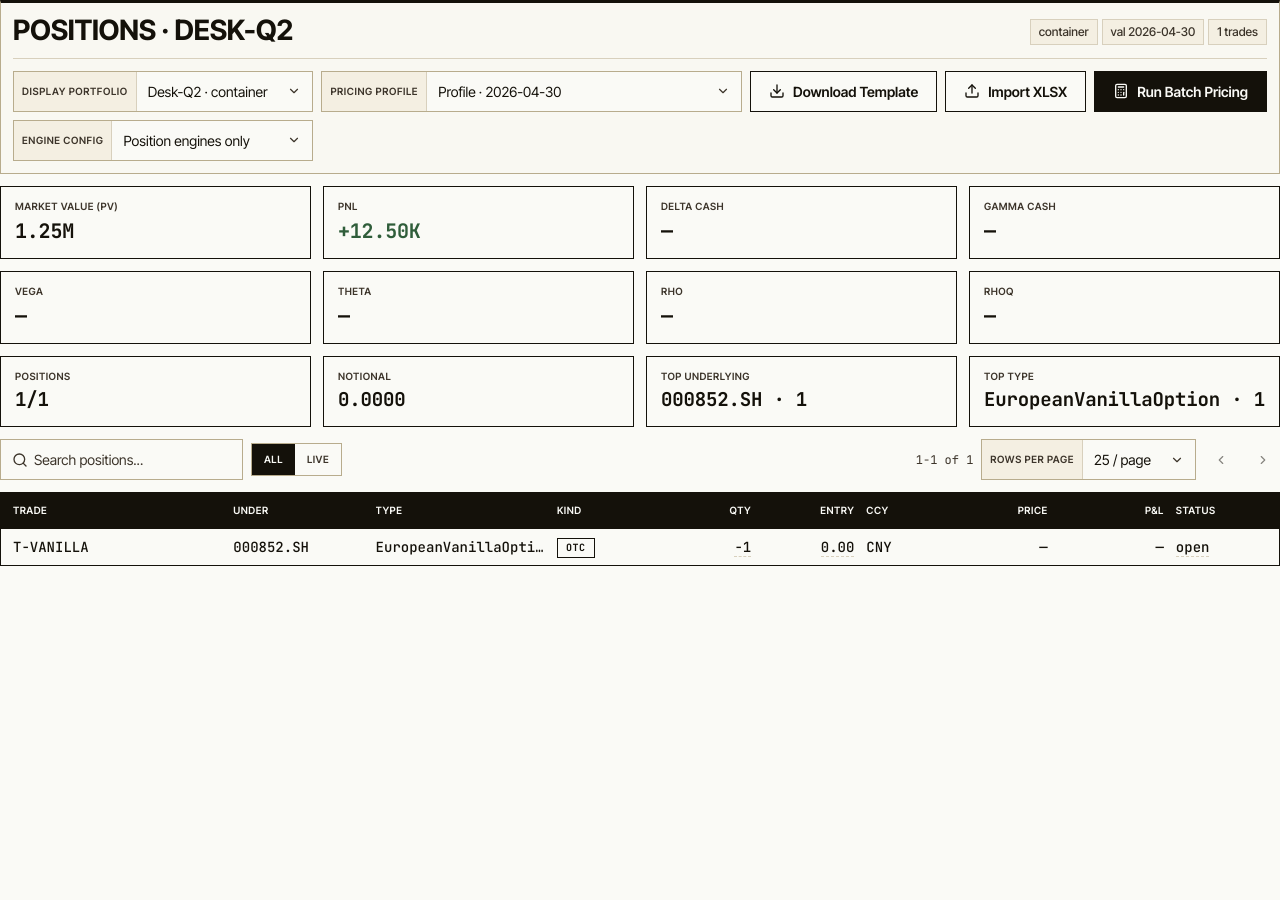
it: Positions › shows a pricing extraction banner for ambiguous same-underlying profile rows
Click the text "T-VANILLA".
click(51, 547)  # box [13,538,89,556]
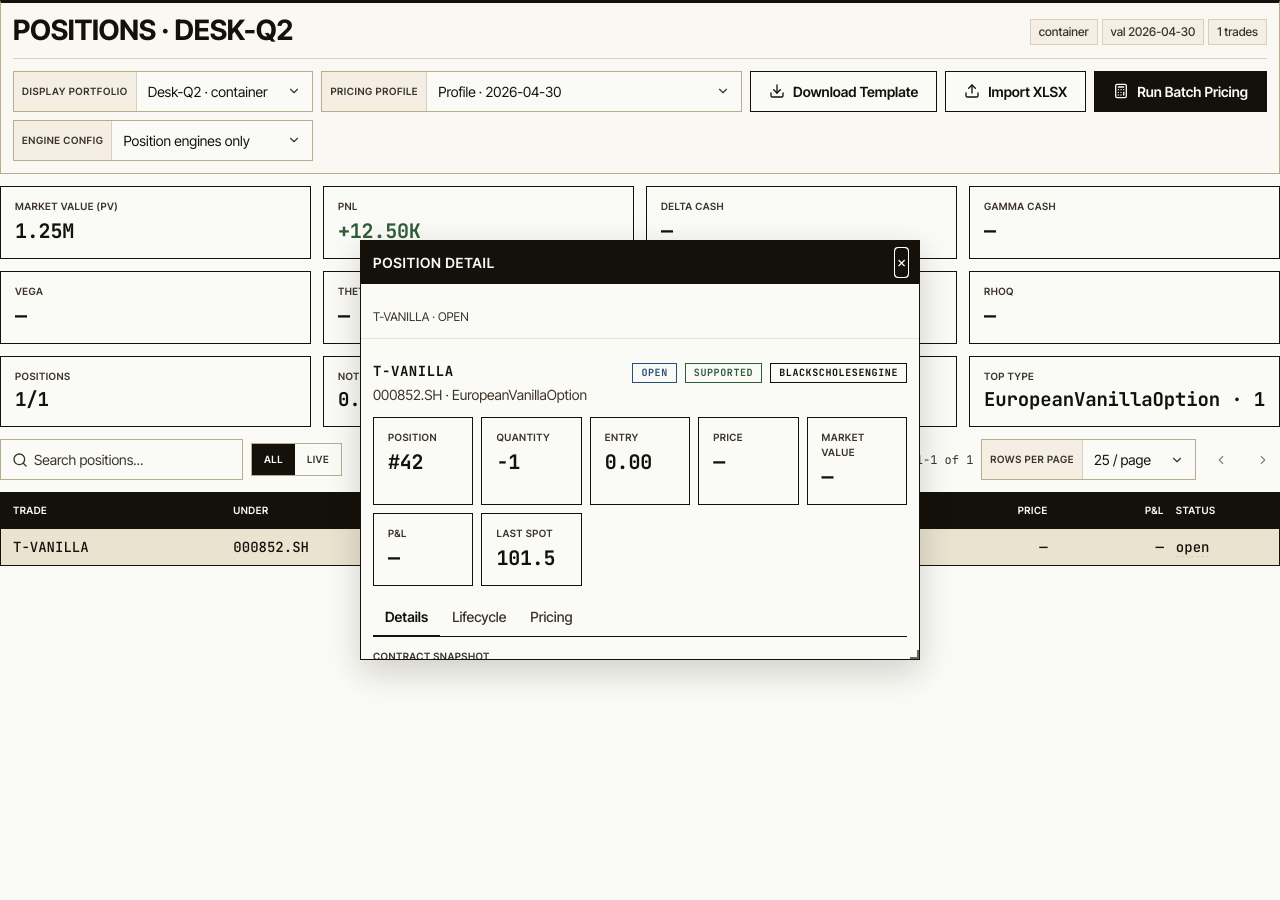
Click the tab "Pricing".
click(551, 617)  # box [518,598,584,637]
(page scrolled)
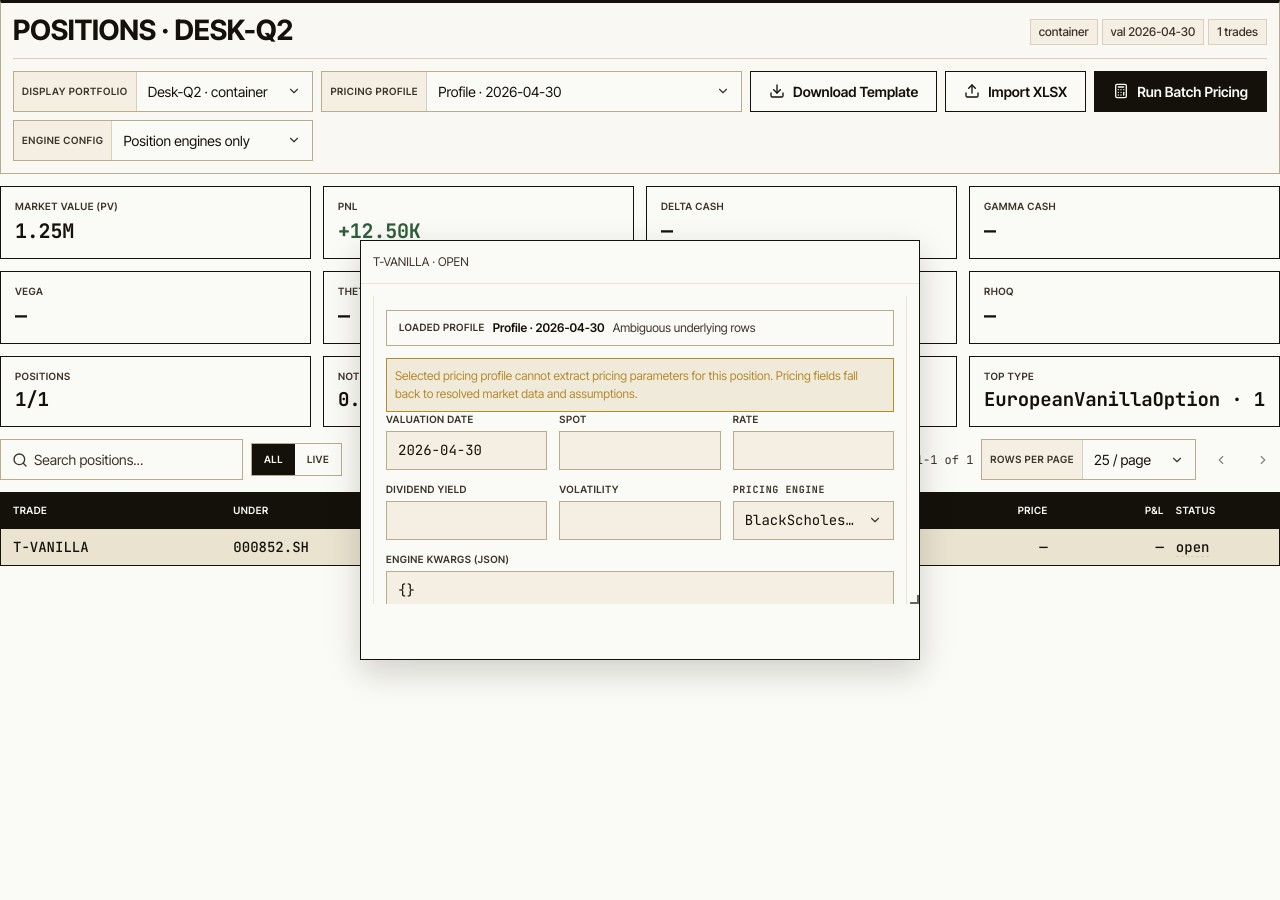
Result: the message shows "cannot extract pricing parameters" at [395,368,858,401]
Result: the text "Ambiguous underlying rows" is shown at [613,319,756,337]
Result: the number field named "Pricing spot" is not empty at [559,431,721,470]
